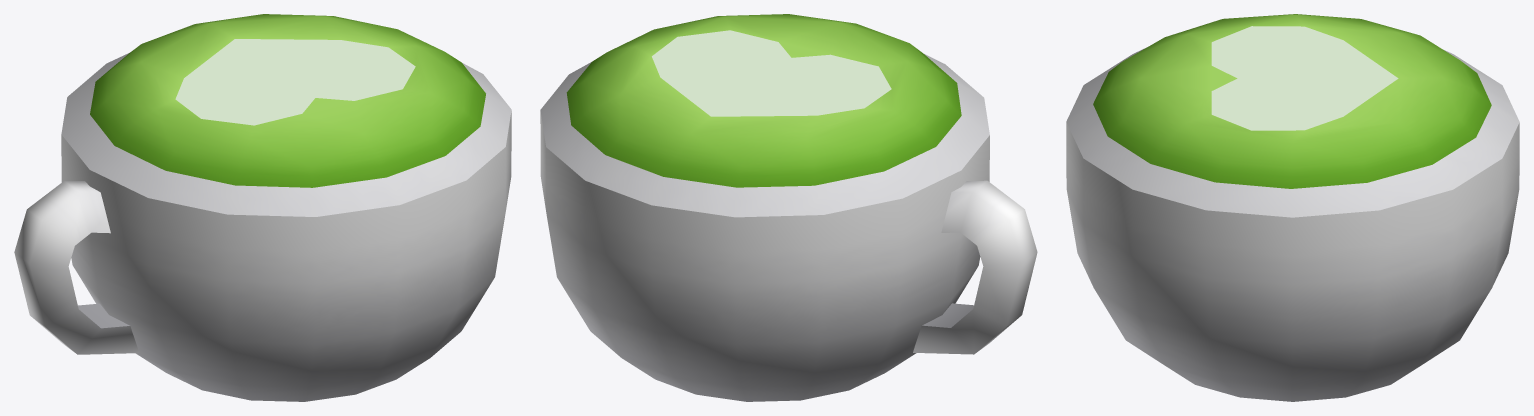
The model's file is m_Cup02_Matcha02.fbx.
3 views of the same model, side by side, from view 1: azimuth 30°, elevation 25°; view 2: azimuth 150°, elevation 25°; view 3: azimuth 270°, elevation 25° (orthographic).
Parts seen in each view (by area): view 1: m_Cup02_Matcha02; view 2: m_Cup02_Matcha02; view 3: m_Cup02_Matcha02.
Boxes of the visible parts, x1,y1,x2,y2 form: m_Cup02_Matcha02: [14, 14, 511, 401]; m_Cup02_Matcha02: [540, 14, 1037, 401]; m_Cup02_Matcha02: [1066, 14, 1519, 401].
Bounding box in the file's own units: 14.87 × 8.19 × 12.68.
